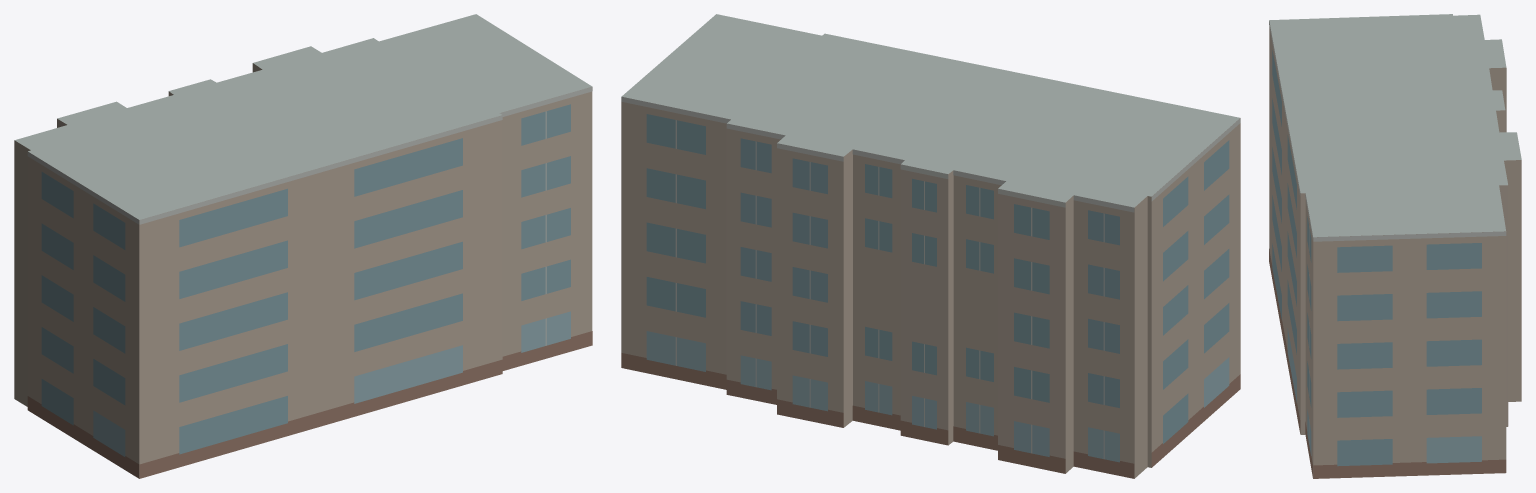
Rendered from survey-upis-32653488.glb.
3 views of the same model, side by side, from view 1: azimuth 30°, elevation 25°; view 2: azimuth 150°, elevation 25°; view 3: azimuth 270°, elevation 25° (orthographic). The views are drawn at different scales.
Parts seen in each view (by area): view 1: survey-upis-32653488.tmp; view 2: survey-upis-32653488.tmp; view 3: survey-upis-32653488.tmp.
Part boxes in pixels (<box>): survey-upis-32653488.tmp: <box>14,14,592,478</box>; survey-upis-32653488.tmp: <box>621,14,1240,478</box>; survey-upis-32653488.tmp: <box>1269,14,1521,478</box>.
Size of the model in its own units: 25.86 by 13.05 by 12.37.
